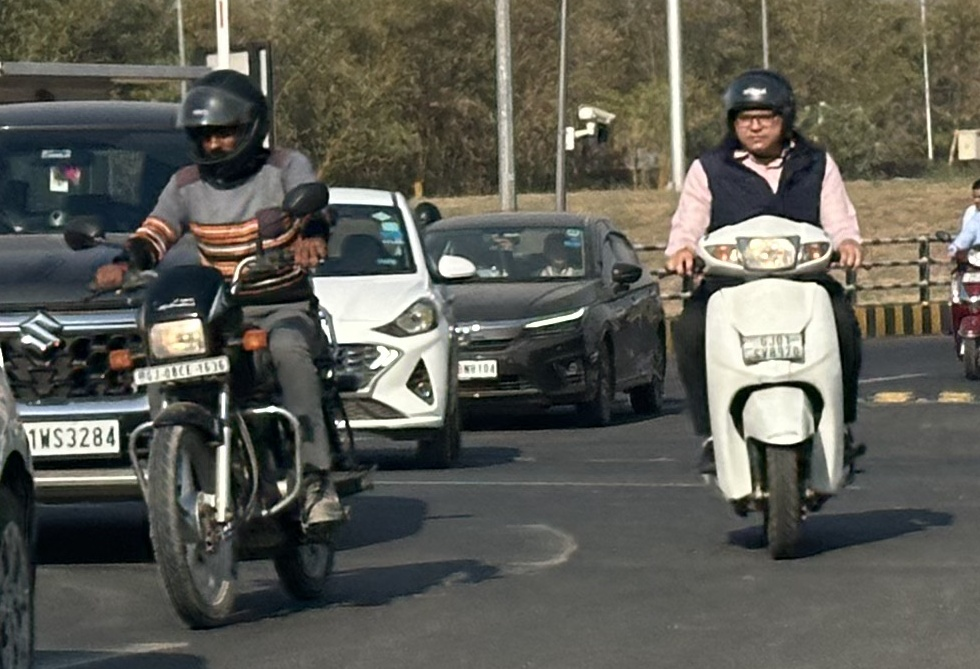BikeWithRider: (58, 62, 387, 636), (655, 60, 881, 566), (930, 169, 980, 385)
Helmet: (167, 62, 282, 184), (710, 61, 810, 162)
